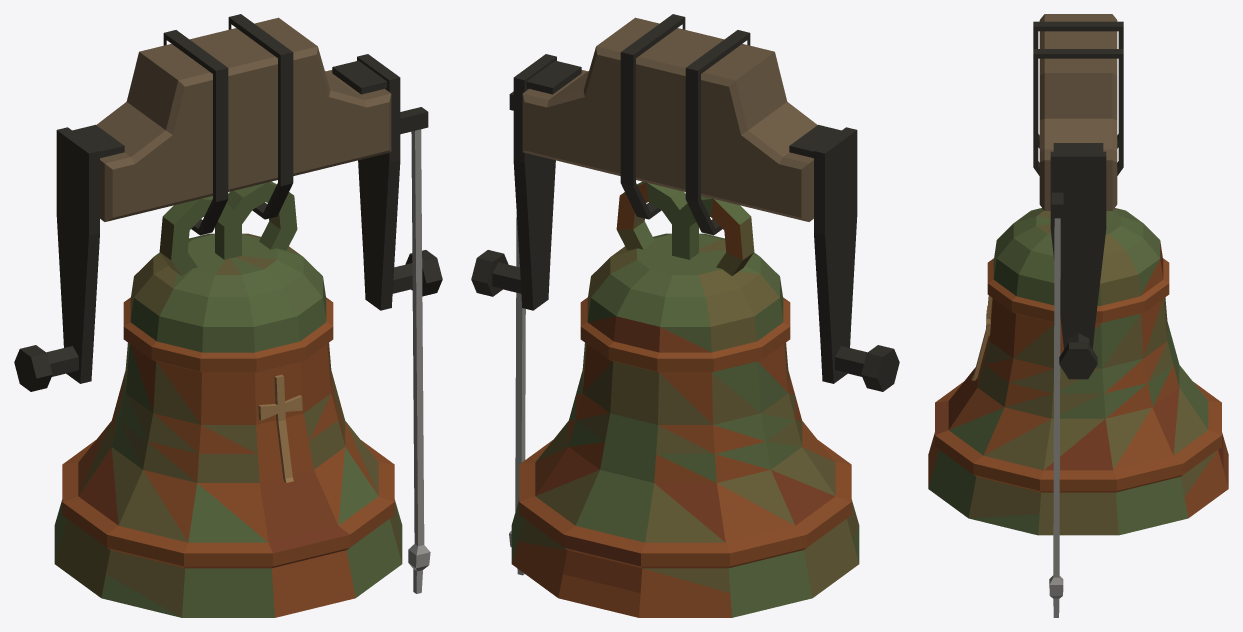
Rendered from church-bell-ccef99.glb.
3 views of the same model, side by side, from view 1: azimuth 30°, elevation 25°; view 2: azimuth 150°, elevation 25°; view 3: azimuth 270°, elevation 25° (orthographic). The views are drawn at different scales.
Parts seen in each view (by area): view 1: bell-body, rope-mesh; view 2: bell-body, rope-mesh; view 3: bell-body, rope-mesh.
Boxes of the visible parts, x1,y1,x2,y2 form: bell-body: (14,14,442,617); rope-mesh: (408,129,430,593); bell-body: (471,14,899,617); rope-mesh: (509,214,525,575); bell-body: (928,14,1228,535); rope-mesh: (1049,218,1063,617).
Size of the model in its own units: 0.652 by 0.895 by 0.483.
